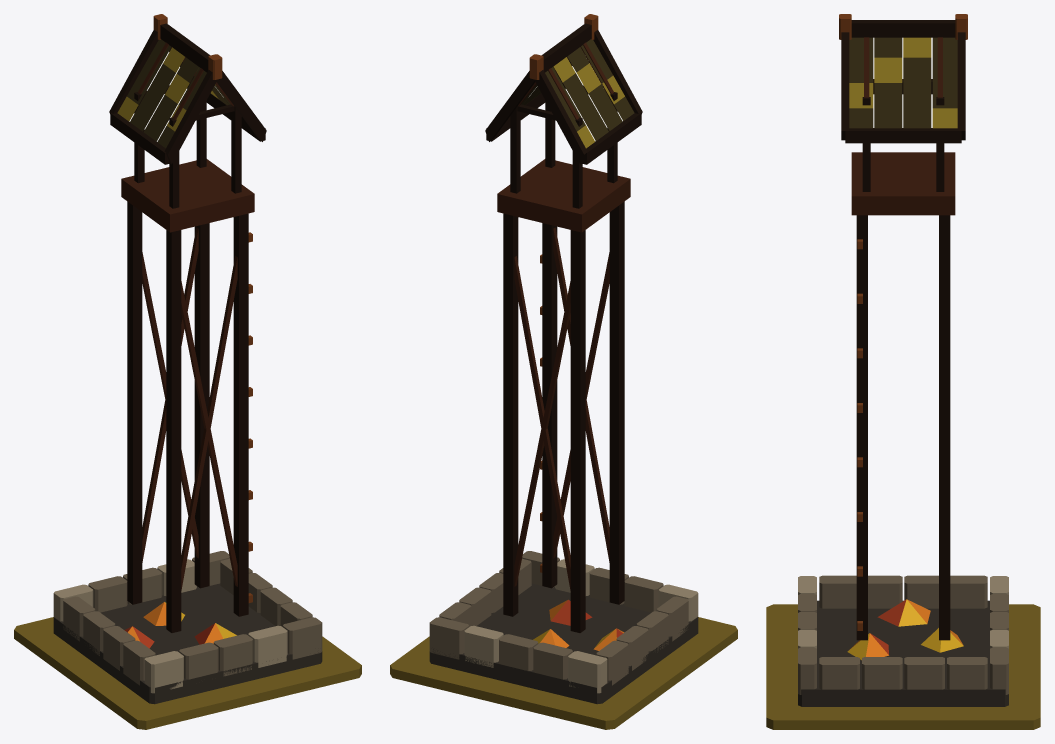
File: tower_t6.glb
3 views of the same model, side by side, from view 1: azimuth 30°, elevation 25°; view 2: azimuth 150°, elevation 25°; view 3: azimuth 270°, elevation 25° (orthographic). The views are drawn at different scales.
Visible parts, largest first — view 1: MMR | tower | T06 Architecture.001, MMR | tower | Tier 06 Ground.001, MMR | tower | T06 Roof Supports.001, MMR | tower | T06 Autumn Dressing.001; view 2: MMR | tower | T06 Architecture.001, MMR | tower | Tier 06 Ground.001, MMR | tower | T06 Roof Supports.001, MMR | tower | T06 Autumn Dressing.001; view 3: MMR | tower | T06 Architecture.001, MMR | tower | Tier 06 Ground.001, MMR | tower | T06 Autumn Dressing.001, MMR | tower | T06 Roof Supports.001.
Boxes of the visible parts, box(x1,y1,x2,y2) form: MMR | tower | T06 Architecture.001: box(53, 14, 322, 704); MMR | tower | Tier 06 Ground.001: box(14, 617, 361, 729); MMR | tower | T06 Roof Supports.001: box(134, 42, 241, 208); MMR | tower | T06 Autumn Dressing.001: box(124, 602, 236, 648); MMR | tower | T06 Architecture.001: box(429, 14, 698, 704); MMR | tower | Tier 06 Ground.001: box(390, 617, 737, 729); MMR | tower | T06 Roof Supports.001: box(510, 42, 617, 208); MMR | tower | T06 Autumn Dressing.001: box(533, 599, 624, 650); MMR | tower | T06 Architecture.001: box(798, 14, 1008, 706); MMR | tower | Tier 06 Ground.001: box(766, 604, 1040, 729); MMR | tower | T06 Autumn Dressing.001: box(847, 599, 963, 660); MMR | tower | T06 Roof Supports.001: box(862, 37, 944, 191).
Bounding box in the file's own units: 1.3 × 3.43 × 1.3.
1 material, 1 textured.
